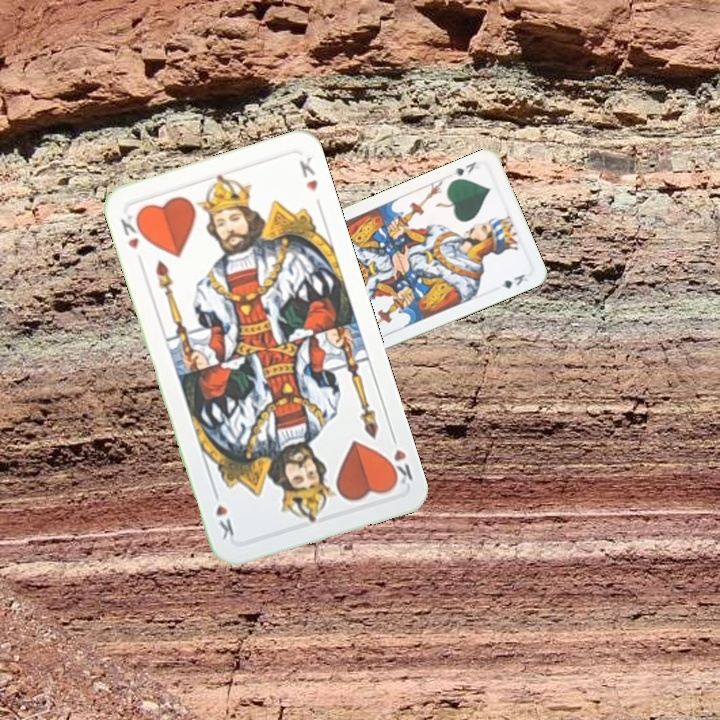GK: (449, 157, 482, 179)
HK: (382, 429, 416, 488), (116, 210, 148, 252)
